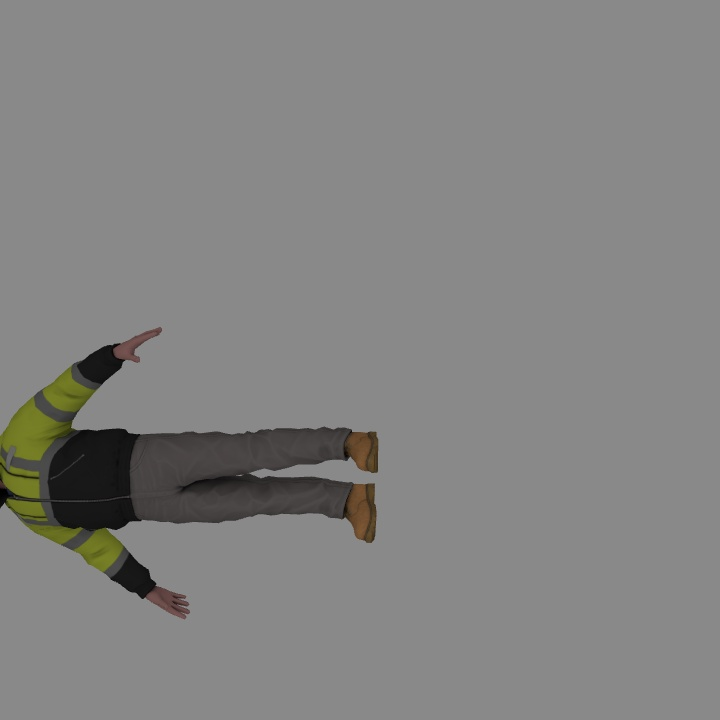victim: (1, 328, 376, 619)
